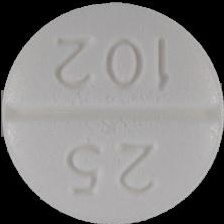55695-005: (0, 0, 224, 224)
